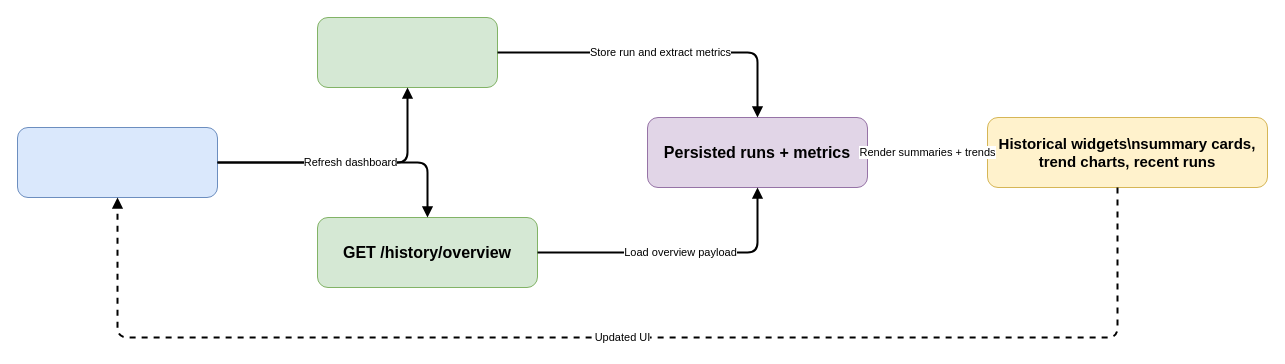
The diagram is 1285 pixels wide and 364 high, and some of its shapes have lost their labels. The shapes that lost their labels are listed below. From the top down, each one's centre as x and y in pixels, then its label:
At [407,52]: "POST /chat".
At [117,162]: "Browser dashboard".
